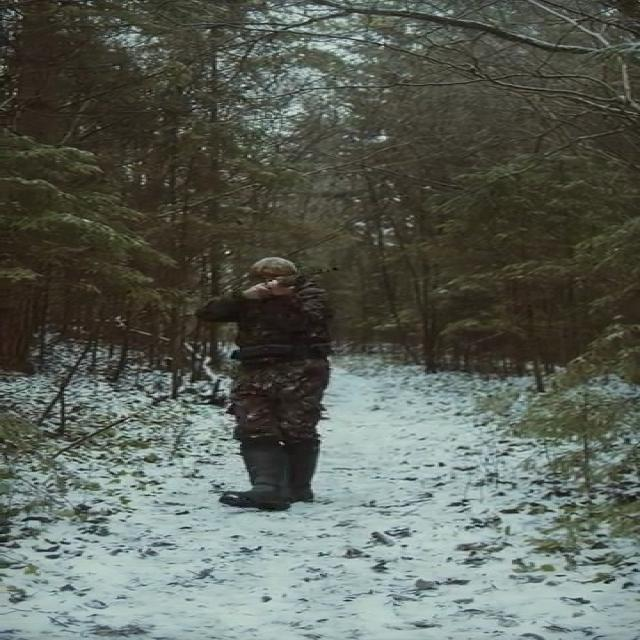Gun_Holder: (249, 276, 359, 296)
Person: (203, 256, 339, 518)
